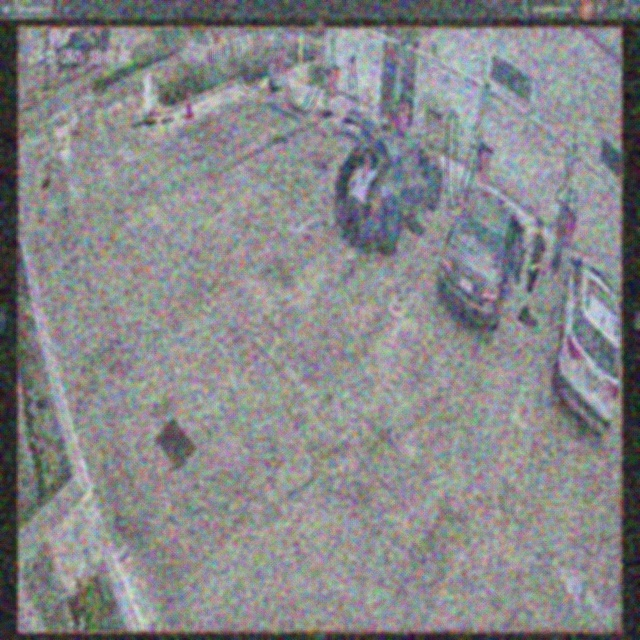Car: (334, 111, 443, 247), (438, 186, 524, 317)
